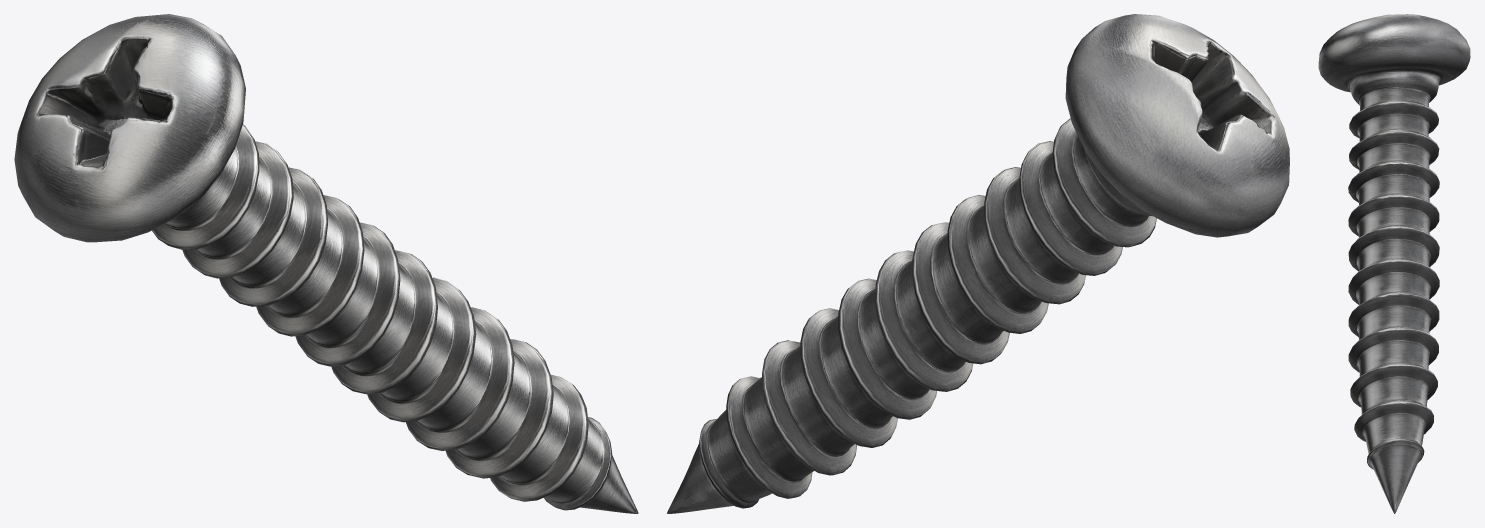
The model's file is tripo_convert_3da75951-c6b2-4ec8-96f7-f422e1dec2c2.fbx.
3 views of the same model, side by side, from view 1: azimuth 30°, elevation 25°; view 2: azimuth 150°, elevation 25°; view 3: azimuth 270°, elevation 25° (orthographic). The views are drawn at different scales.
Parts seen in each view (by area): view 1: tripo_node_3da75951; view 2: tripo_node_3da75951; view 3: tripo_node_3da75951.
Boxes of the visible parts, x1,y1,x2,y2 form: tripo_node_3da75951: (14, 14, 638, 513); tripo_node_3da75951: (667, 14, 1289, 513); tripo_node_3da75951: (1318, 14, 1470, 513).
Size of the model in its own units: 0.9796 by 0.9273 by 0.3544.
1 material, 1 textured.
